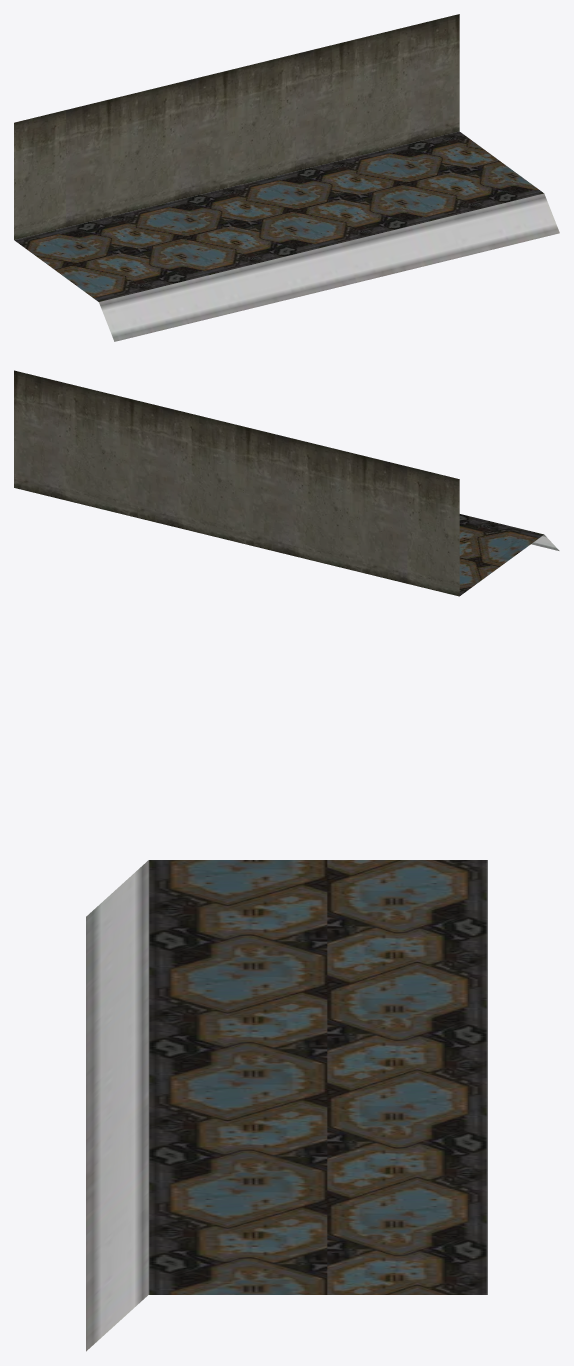
The model's file is top-ceiling.glb.
The picture shows the model from 3 angles, top to bottom: view 1: azimuth 30°, elevation 25°; view 2: azimuth 150°, elevation 25°; view 3: azimuth 270°, elevation 25°; orthographic projection. The views are drawn at different scales.
Parts seen in each view (by area): view 1: Top_Ceiling; view 2: Top_Ceiling; view 3: Top_Ceiling.
Part boxes in pixels (<box>): Top_Ceiling: <box>14,14,559,341</box>; Top_Ceiling: <box>14,370,559,596</box>; Top_Ceiling: <box>86,860,487,1351</box>.
Size of the model in its own units: 2.27 by 0.7106 by 0.888.
Materials: 2 (2 with a texture image).
